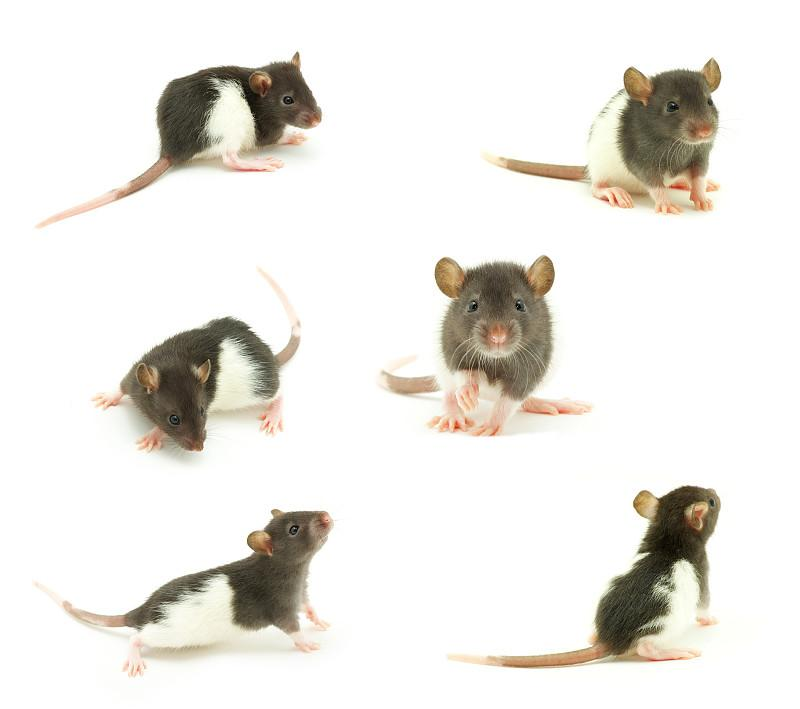rat: (73, 34, 327, 221), (81, 497, 354, 653), (88, 274, 306, 459), (558, 469, 730, 662), (419, 238, 570, 442), (564, 48, 725, 211)
